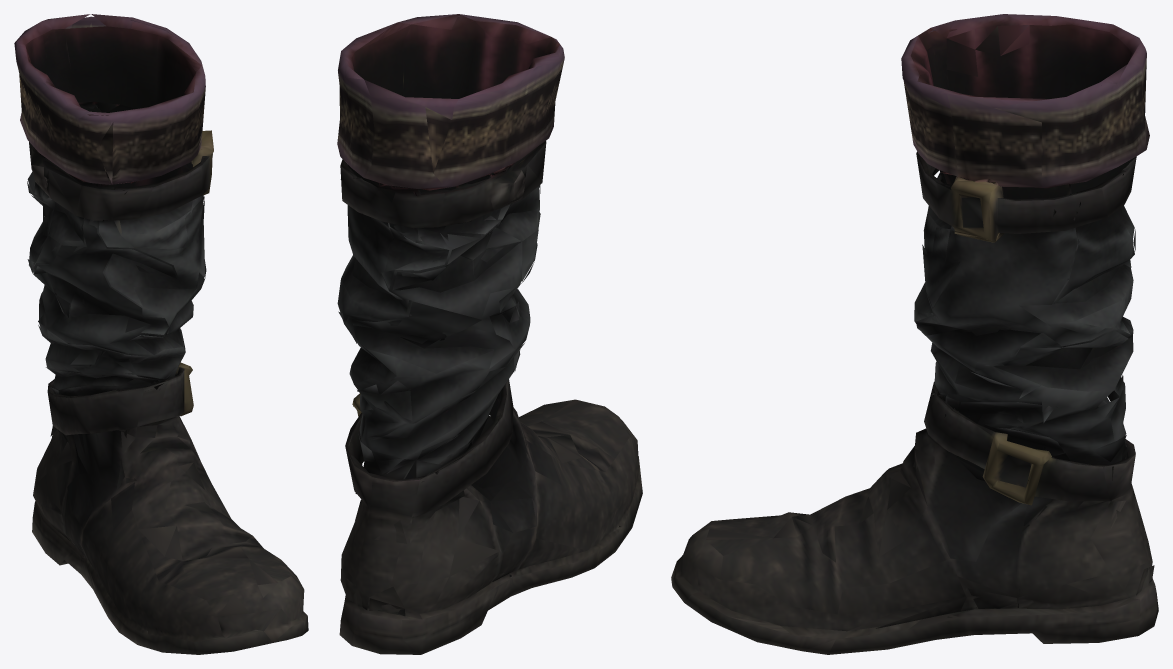
The model's file is ember-slipper-8k-v1.glb.
The picture shows the model from 3 angles, left to right: view 1: azimuth 30°, elevation 25°; view 2: azimuth 150°, elevation 25°; view 3: azimuth 270°, elevation 25°; orthographic projection. The views are drawn at different scales.
Parts seen in each view (by area): view 1: ember-slipper-8k-v1; view 2: ember-slipper-8k-v1; view 3: ember-slipper-8k-v1.
Boxes of the visible parts, x1,y1,x2,y2 form: ember-slipper-8k-v1: (14,14,308,654); ember-slipper-8k-v1: (337,14,642,654); ember-slipper-8k-v1: (671,14,1158,654).
Size of the model in its own units: 0.3395 by 1.01 by 0.7845.
1 material, 1 textured.
